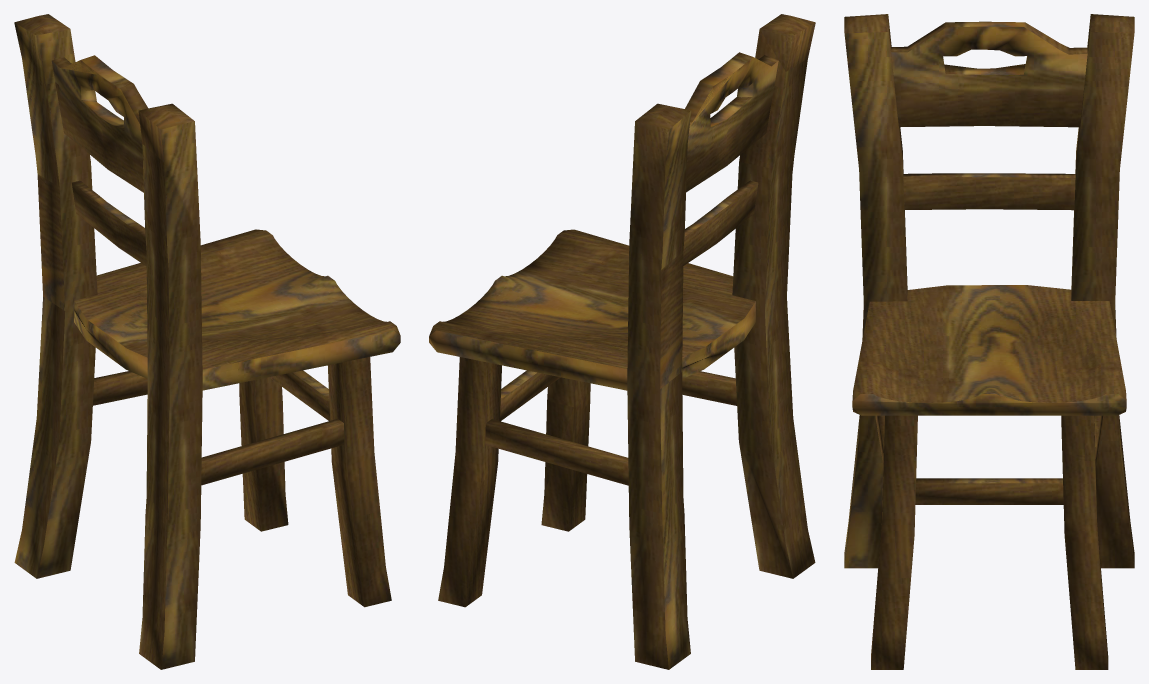
The model's file is WoodenChair1.fbx.
3 views of the same model, side by side, from view 1: azimuth 30°, elevation 25°; view 2: azimuth 150°, elevation 25°; view 3: azimuth 270°, elevation 25° (orthographic).
Visible parts, largest first — view 1: default; view 2: default; view 3: default.
Part boxes in pixels (x1,y1,x2,y2): default: (14,14,400,669); default: (429,14,815,669); default: (844,14,1134,669).
Size of the model in its own units: 353 by 756 by 366.
